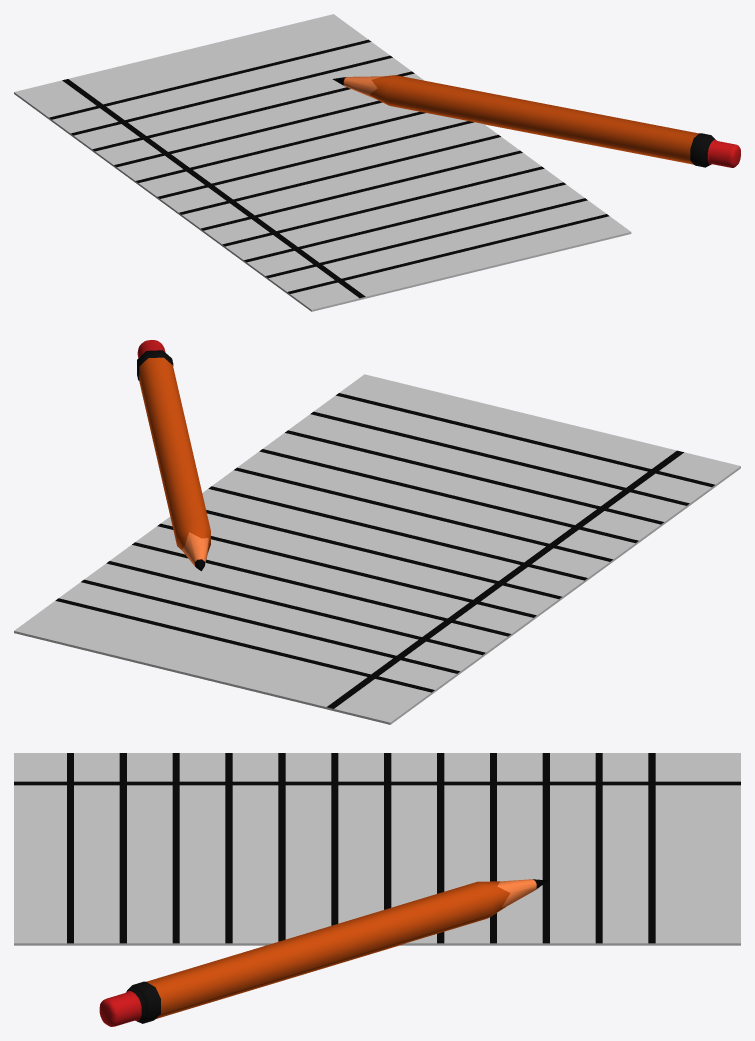
File: Pencil&paper.obj
3 views of the same model, one above another, from view 1: azimuth 30°, elevation 25°; view 2: azimuth 150°, elevation 25°; view 3: azimuth 270°, elevation 25° (orthographic). The views are drawn at different scales.
Visible parts, largest first — view 1: Plane, Pencil_Cube; view 2: Plane, Pencil_Cube; view 3: Plane, Pencil_Cube.
Boxes of the visible parts, x1,y1,x2,y2 form: Plane: (14, 14, 631, 311); Pencil_Cube: (332, 75, 740, 167); Plane: (14, 374, 740, 724); Pencil_Cube: (137, 340, 210, 571); Plane: (14, 753, 740, 945); Pencil_Cube: (99, 879, 547, 1026).
Size of the model in its own units: 37.68 by 2.14 by 41.33.
